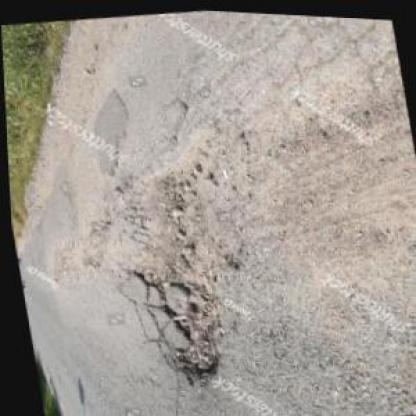pothole: (122, 259, 230, 390)
